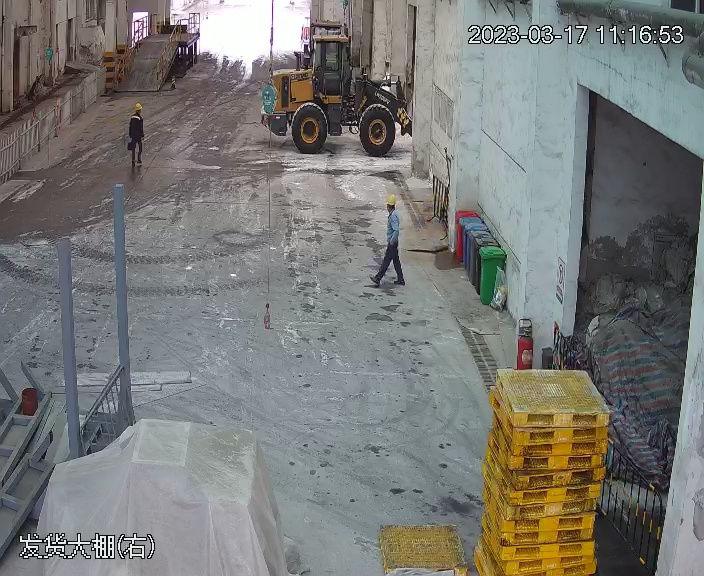head: (384, 194, 402, 226), (128, 103, 144, 125)
helmet: (384, 193, 398, 207), (133, 102, 143, 111)
people: (371, 193, 407, 288), (126, 103, 145, 170)
